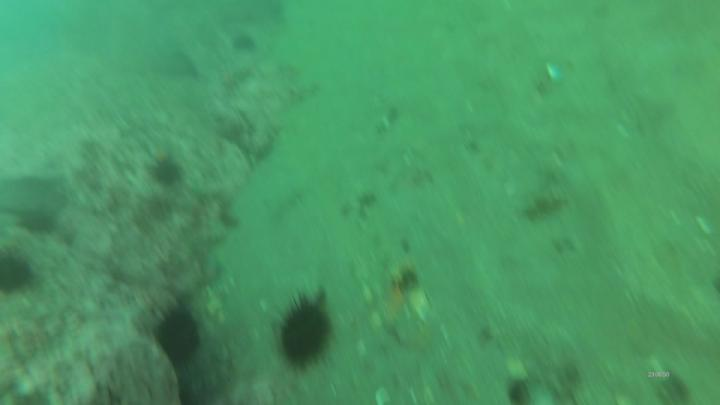echinus: (276, 297, 335, 370), (153, 306, 206, 364), (1, 255, 37, 290), (149, 160, 185, 185)
